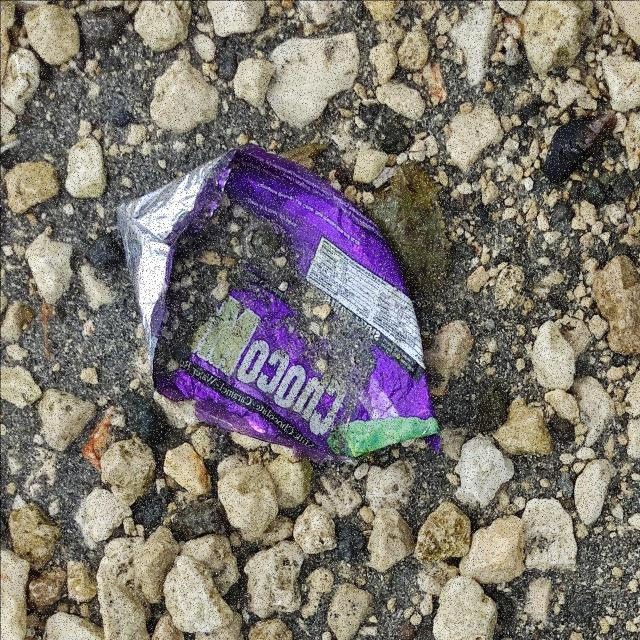plastic_waste: (114, 143, 444, 468)
